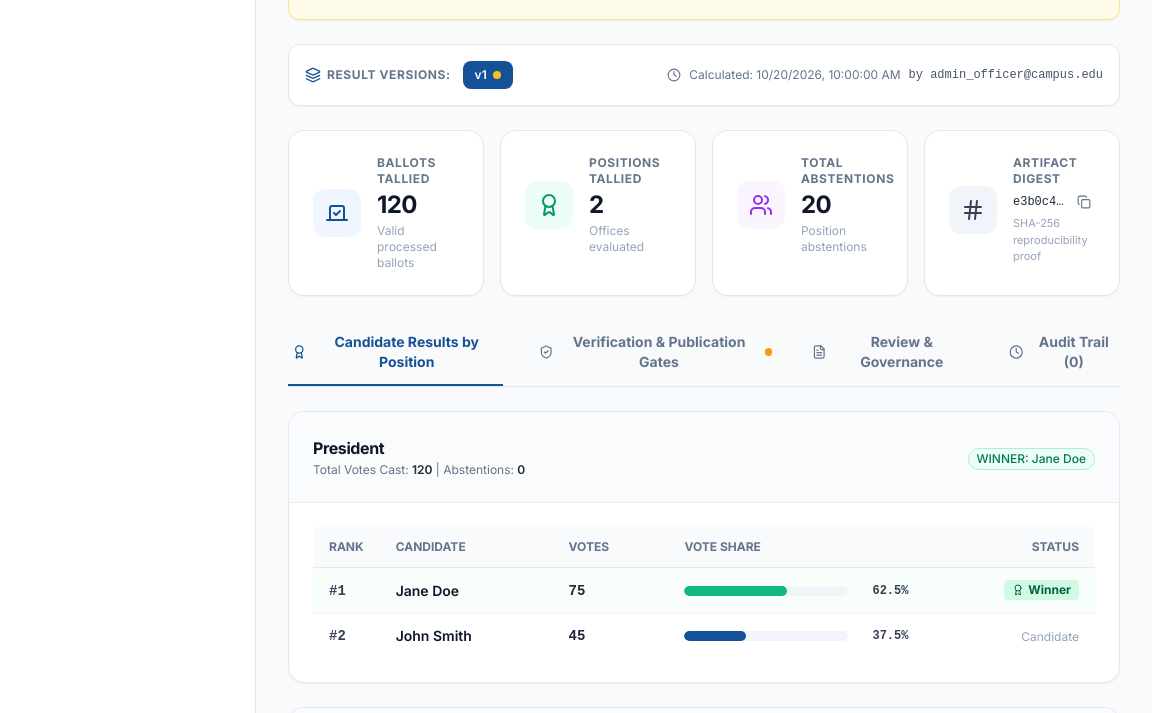
Test: Phase 8: Election Results Management & Verification Tests › 3. renders integrity verification tab with reproducibility, digest, and reconciliation status
(page scrolled)
Click the button "Verification & Publication Gates". click: (655, 353)
box: x1=535 y1=320 x2=776 y2=386
(page scrolled)
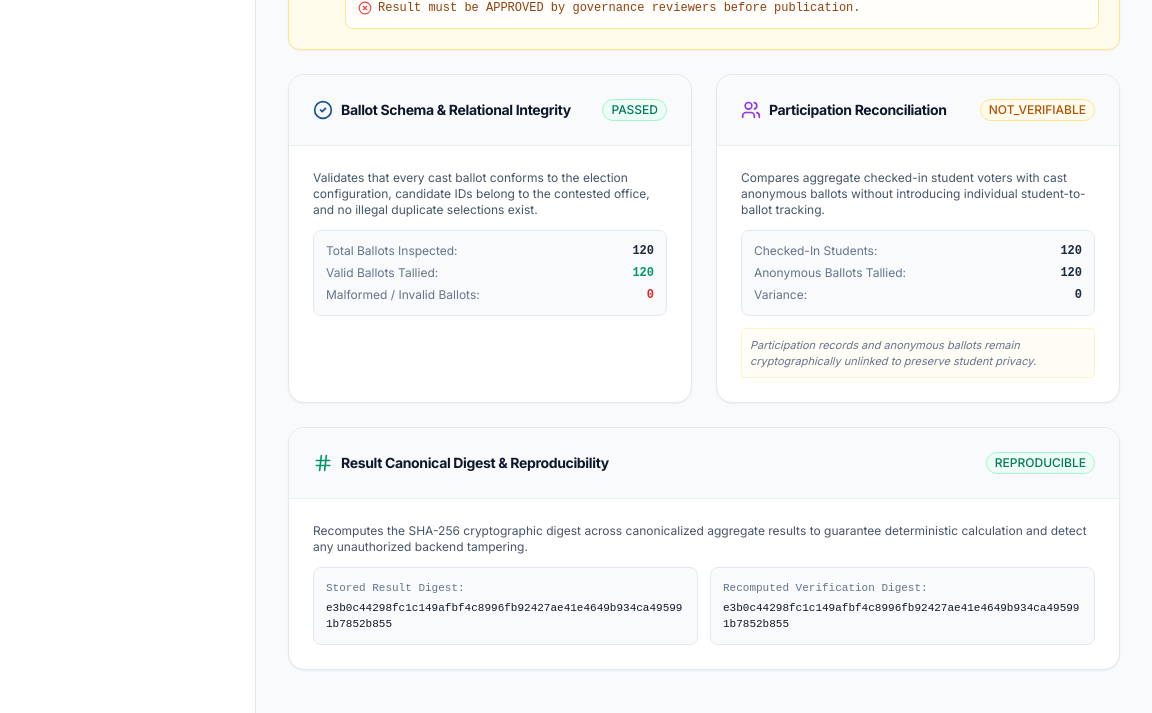
Expected: the heading "Result Canonical Digest & Reproducibility" is shown, x1=341 y1=453 x2=609 y2=473
Expected: the text "e3b0c44298fc1c149afbf4c8996fb92427ae41e4649b934ca495991b7852b855" below "Stored Result Digest:" is shown, x1=326 y1=602 x2=682 y2=630
Expected: the text "REPRODUCIBLE" is shown, x1=986 y1=452 x2=1095 y2=474
